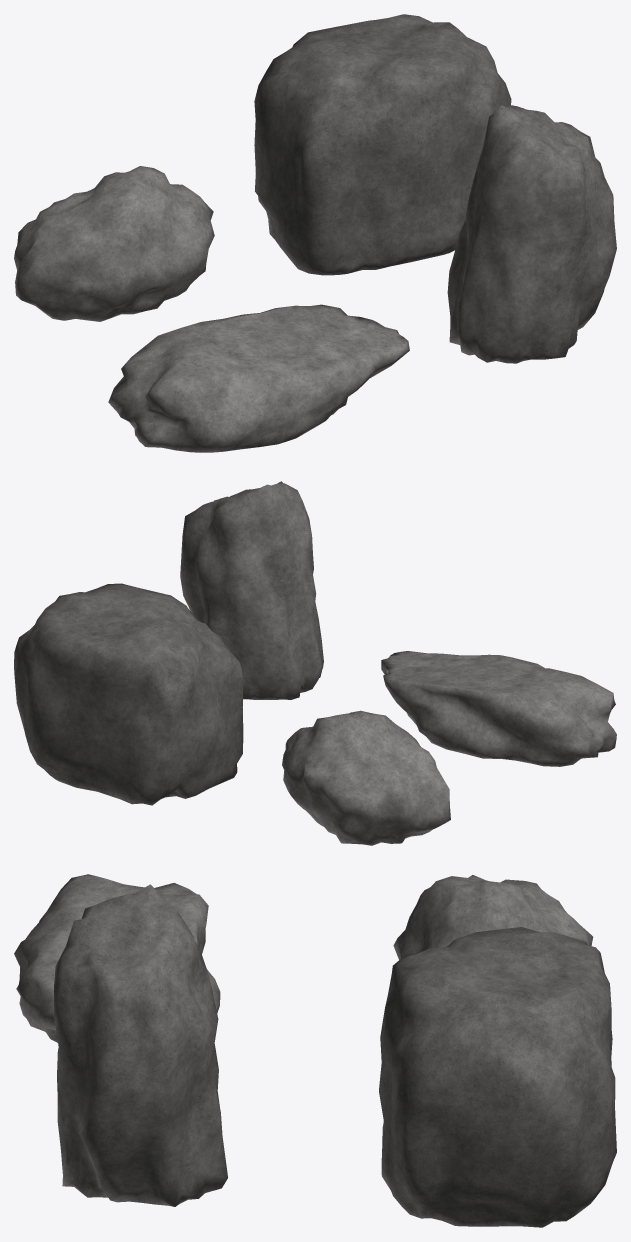
The model's file is rocasSinHelio3.glb.
3 views of the same model, one above another, from view 1: azimuth 30°, elevation 25°; view 2: azimuth 150°, elevation 25°; view 3: azimuth 270°, elevation 25° (orthographic). The views are drawn at different scales.
Visible parts, largest first — view 1: 02_Bloque_basaltico, 06_Monolito_fracturado, 03_Losa_lunar, 01_Piedra_redondeada; view 2: 02_Bloque_basaltico, 06_Monolito_fracturado, 03_Losa_lunar, 01_Piedra_redondeada; view 3: 02_Bloque_basaltico, 06_Monolito_fracturado, 01_Piedra_redondeada, 03_Losa_lunar.
Part boxes in pixels (x1=…): 02_Bloque_basaltico: x1=254, y1=14, x2=511, y2=275; 06_Monolito_fracturado: x1=447, y1=104, x2=616, y2=363; 03_Losa_lunar: x1=108, y1=304, x2=409, y2=452; 01_Piedra_redondeada: x1=14, y1=166, x2=214, y2=321; 02_Bloque_basaltico: x1=14, y1=583, x2=243, y2=805; 06_Monolito_fracturado: x1=180, y1=481, x2=323, y2=699; 03_Losa_lunar: x1=381, y1=651, x2=616, y2=766; 01_Piedra_redondeada: x1=282, y1=710, x2=450, y2=845; 02_Bloque_basaltico: x1=379, y1=927, x2=616, y2=1227; 06_Monolito_fracturado: x1=54, y1=884, x2=227, y2=1206; 01_Piedra_redondeada: x1=393, y1=875, x2=593, y2=959; 03_Losa_lunar: x1=14, y1=874, x2=220, y2=1042.
Size of the model in its own units: 3.46 by 1.48 by 2.84.
Materials: 4 (4 with a texture image).
